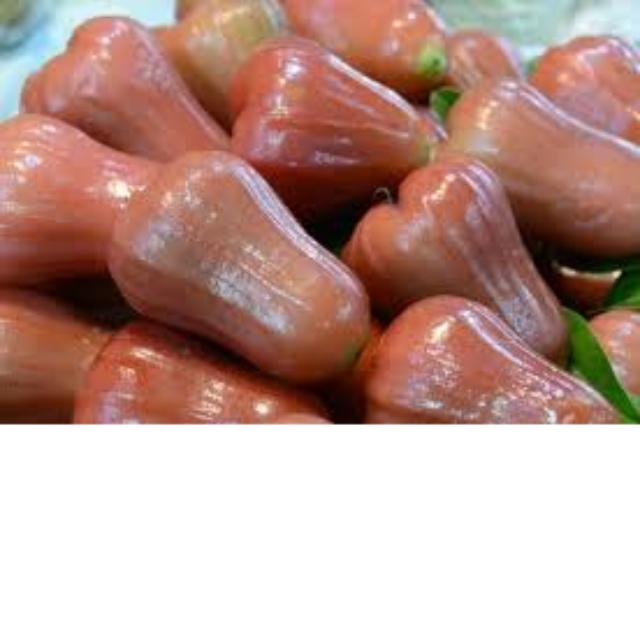xoai: (95, 120, 362, 372), (354, 154, 580, 341), (440, 60, 640, 249), (360, 299, 633, 426), (231, 30, 436, 184), (3, 108, 184, 279)
